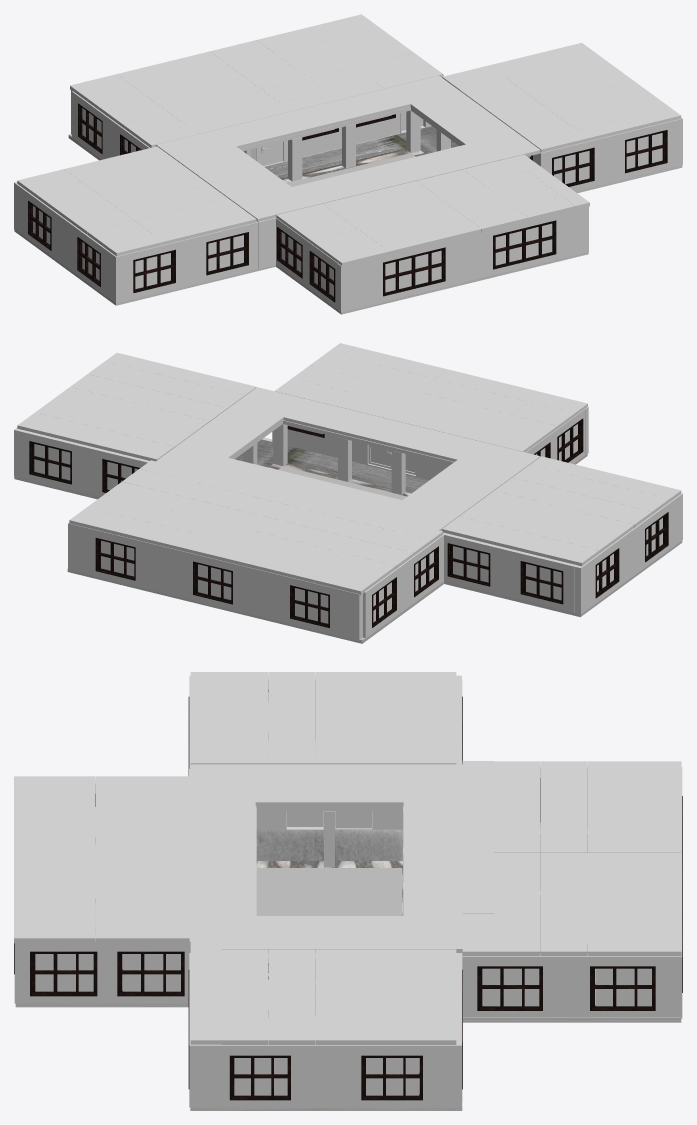
File: examWorld1.fbx
The picture shows the model from 3 angles, top to bottom: view 1: azimuth 30°, elevation 25°; view 2: azimuth 150°, elevation 25°; view 3: azimuth 270°, elevation 25°; orthographic projection. The views are drawn at different scales.
Parts seen in each view (by area): view 1: Ceiling.003, Ceiling, Ceiling.002, Ceiling.004, Ceiling.001, Wall.002, Floor, Wall.008, Wall.009, Wall.014, Wall.013, Wall.015 (+21 smaller); view 2: Ceiling.003, Ceiling, Ceiling.002, Ceiling.004, Ceiling.001, Floor, Wall.006, Wall.021, Wall.018, Wall.019, Wall.010, Wall.015 (+23 smaller); view 3: Ceiling.003, Ceiling, Ceiling.002, Ceiling.001, Ceiling.004, Floor, Wall.016, Wall.007, Wall.028, Wall.027, Window_Glass.024, Window_Glass.013 (+16 smaller).
Boxes of the visible parts, left/top/right/bottom form: Ceiling.003: left=70, top=14, right=443, bottom=147; Ceiling: left=156, top=75, right=540, bottom=221; Ceiling.002: left=276, top=154, right=589, bottom=266; Ceiling.004: left=17, top=146, right=256, bottom=256; Ceiling.001: left=442, top=42, right=681, bottom=152; Wall.002: left=337, top=206, right=588, bottom=312; Floor: left=14, top=126, right=682, bottom=314; Wall.008: left=122, top=221, right=258, bottom=301; Wall.009: left=537, top=120, right=676, bottom=191; Wall.014: left=63, top=218, right=121, bottom=303; Wall.013: left=14, top=182, right=64, bottom=264; Wall.015: left=72, top=91, right=149, bottom=159; Ceiling.003: left=69, top=460, right=442, bottom=594; Ceiling: left=156, top=387, right=540, bottom=530; Ceiling.002: left=275, top=343, right=587, bottom=452; Ceiling.004: left=442, top=456, right=681, bottom=566; Ceiling.001: left=17, top=352, right=256, bottom=461; Floor: left=14, top=437, right=682, bottom=643; Wall.006: left=443, top=532, right=576, bottom=612; Wall.021: left=262, top=570, right=362, bottom=640; Wall.018: left=68, top=522, right=164, bottom=593; Wall.019: left=165, top=547, right=261, bottom=616; Wall.010: left=20, top=430, right=149, bottom=497; Wall.015: left=363, top=535, right=443, bottom=638; Ceiling.003: left=462, top=761, right=681, bottom=955; Ceiling: left=190, top=764, right=462, bottom=953; Ceiling.002: left=14, top=776, right=189, bottom=943; Ceiling.001: left=190, top=949, right=456, bottom=1044; Ceiling.004: left=190, top=672, right=456, bottom=764; Floor: left=15, top=741, right=681, bottom=1110; Wall.016: left=462, top=953, right=672, bottom=1017; Wall.007: left=189, top=1041, right=330, bottom=1107; Wall.028: left=330, top=1041, right=461, bottom=1107; Wall.027: left=23, top=938, right=110, bottom=1002; Window_Glass.024: left=35, top=954, right=93, bottom=991; Window_Glass.013: left=122, top=954, right=180, bottom=991.
Bounding box in the file's own units: 4614 × 406 × 3518.
